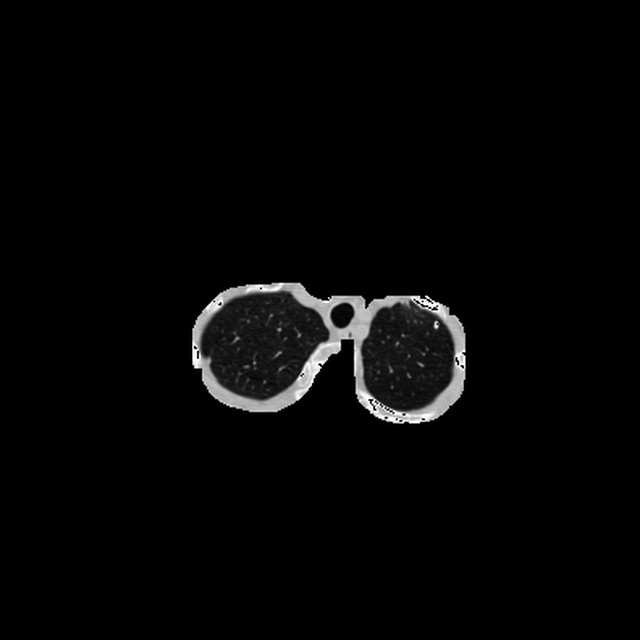PN: (432, 322, 438, 328)
